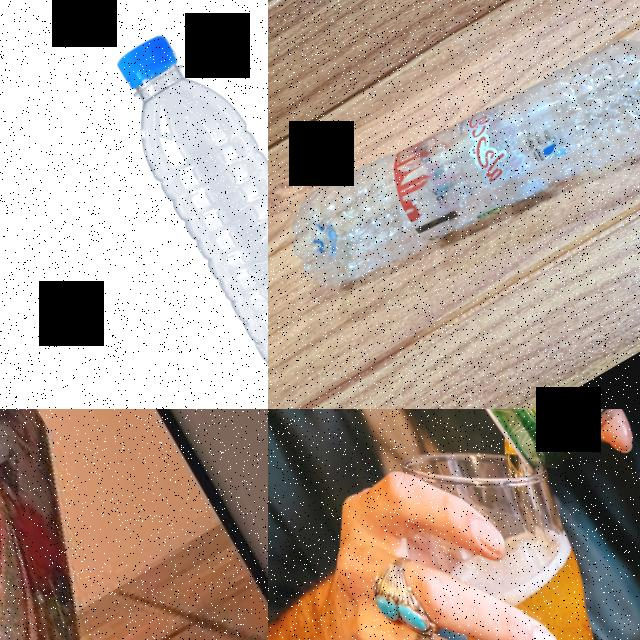bottle: (268, 0, 640, 329), (91, 12, 268, 409)
can: (0, 409, 200, 640), (415, 409, 640, 489)
